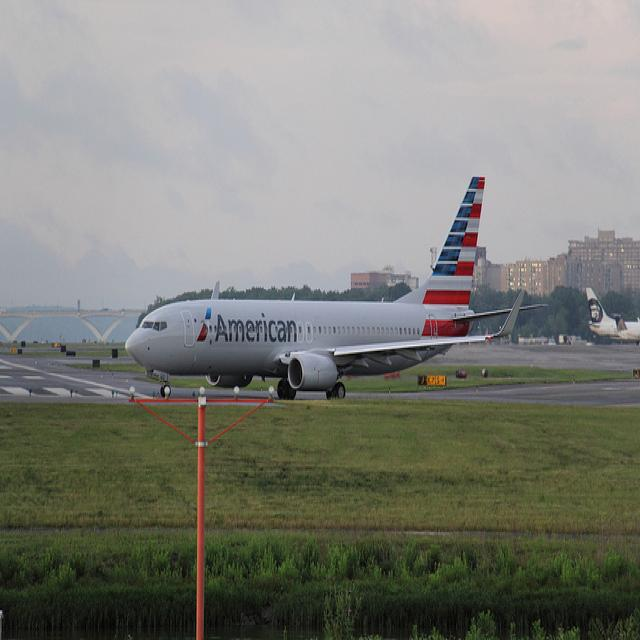airplane: (124, 173, 549, 405), (581, 284, 640, 348)
